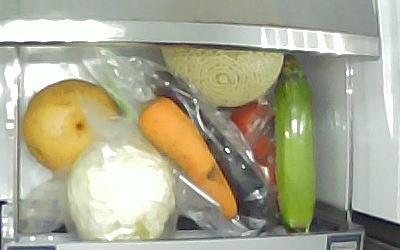cabbage_vinyl: (65, 141, 176, 241)
carrot: (137, 94, 237, 219)
eggplant_vinyl: (145, 68, 271, 219)
melon: (159, 46, 284, 107)
pear: (22, 78, 123, 172)
tomato_vinyl: (229, 99, 275, 159)
zucchini: (273, 53, 315, 229)
